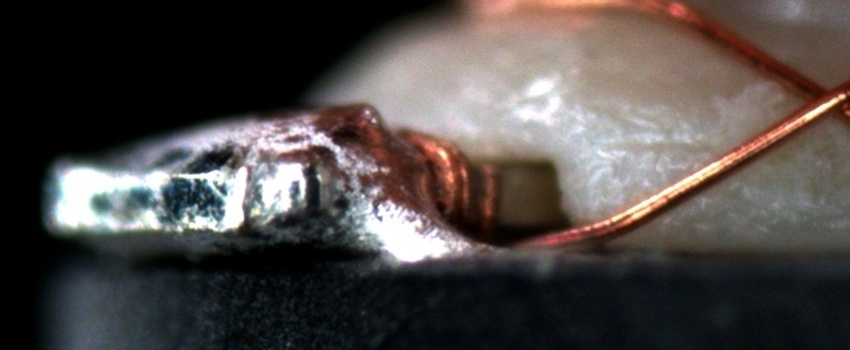CL: (785, 65, 847, 129)
DL: (589, 125, 737, 175)
TE: (389, 122, 502, 242)
